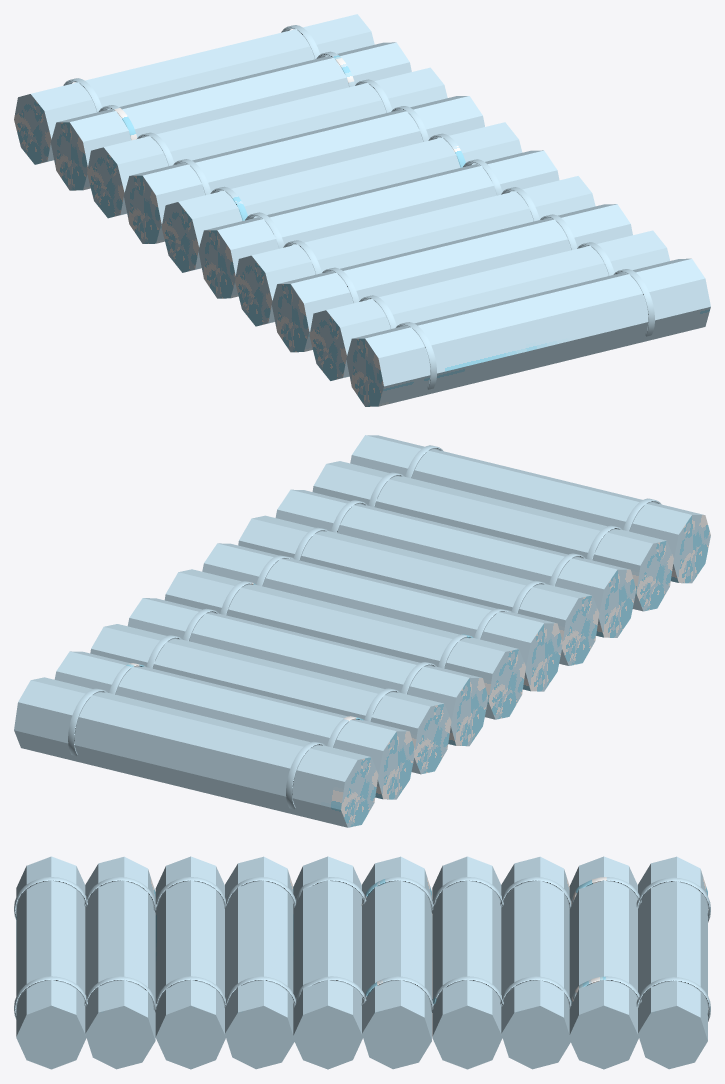
Rendered from plot.fbx.
The picture shows the model from 3 angles, top to bottom: view 1: azimuth 30°, elevation 25°; view 2: azimuth 150°, elevation 25°; view 3: azimuth 270°, elevation 25°; orthographic projection. The views are drawn at different scales.
Parts seen in each view (by area): view 1: Cylinder.001; view 2: Cylinder.001; view 3: Cylinder.001.
Boxes of the visible parts, <box> form: Cylinder.001: <box>14,14,710,406</box>; Cylinder.001: <box>14,435,710,827</box>; Cylinder.001: <box>14,856,710,1069</box>.
Size of the model in its own units: 600 by 121 by 1185.
